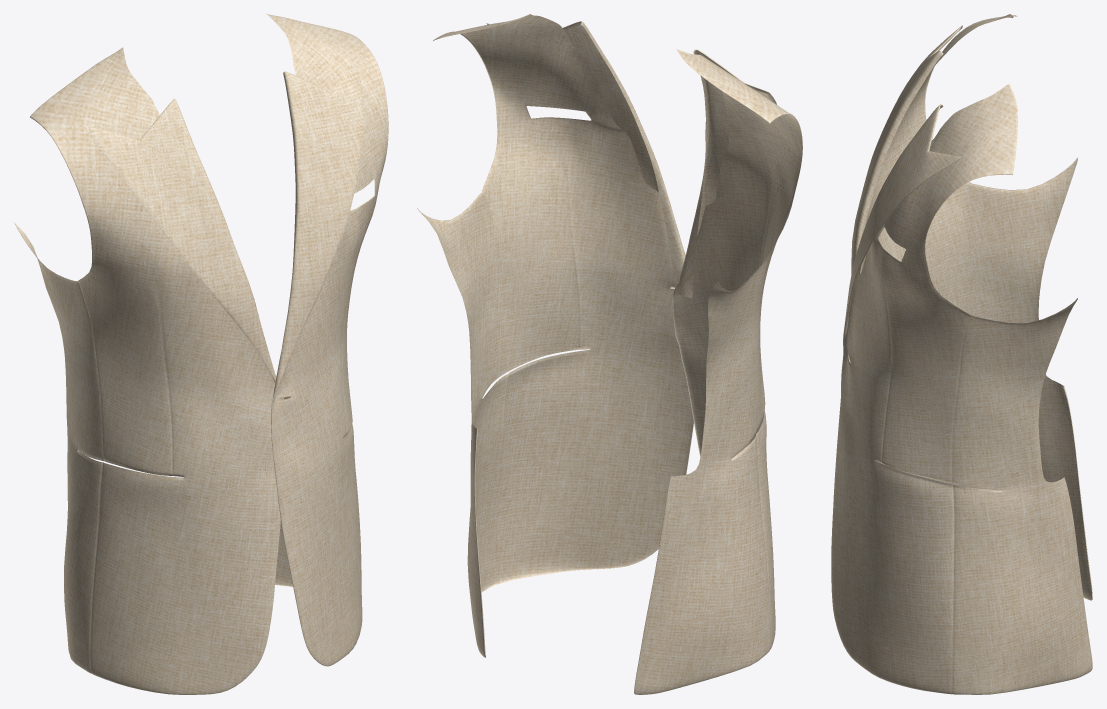
The model's file is peak_single_button_wide.glb.
The picture shows the model from 3 angles, left to right: view 1: azimuth 30°, elevation 25°; view 2: azimuth 150°, elevation 25°; view 3: azimuth 270°, elevation 25°; orthographic projection. The views are drawn at different scales.
Parts seen in each view (by area): view 1: peak_single_button_wide1; view 2: peak_single_button_wide1; view 3: peak_single_button_wide1.
Part boxes in pixels (x1,y1,x2,y2): peak_single_button_wide1: [15, 14, 388, 694]; peak_single_button_wide1: [417, 14, 802, 694]; peak_single_button_wide1: [831, 14, 1092, 694].
Size of the model in its own units: 0.0585 by 0.102 by 0.0411.
Materials: 2 (1 with a texture image).
